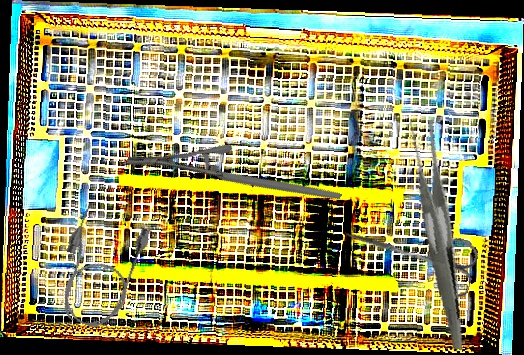Cannula: (44, 199, 155, 336)
Dressing Forceps: (375, 117, 497, 350)
Iris Scissors: (337, 206, 482, 303)
Needle Holder: (124, 95, 343, 263)
